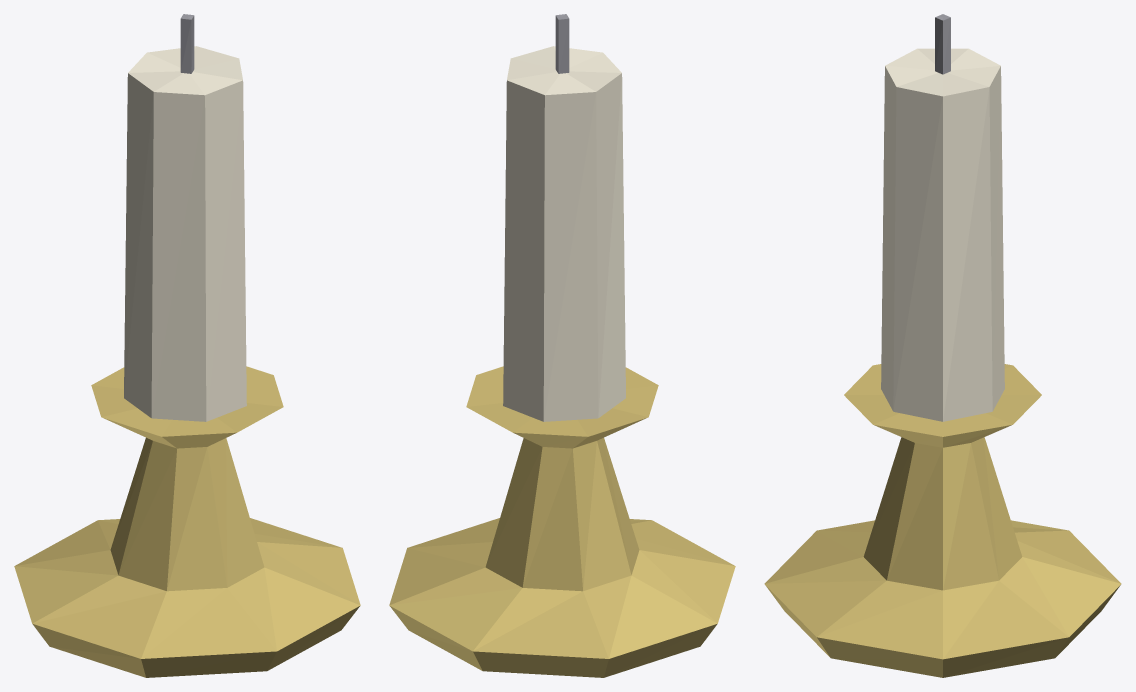
File: candle.glb
3 renders of one model, left to right at view 1: azimuth 30°, elevation 25°; view 2: azimuth 150°, elevation 25°; view 3: azimuth 270°, elevation 25°, orthographic.
Parts seen in each view (by area): view 1: candle; view 2: candle; view 3: candle.
Boxes of the visible parts, box(x1,y1,x2,y2) form: candle: box(14, 14, 360, 677); candle: box(389, 14, 735, 677); candle: box(764, 14, 1121, 677).
Size of the model in its own units: 0.18 by 0.33 by 0.18.
